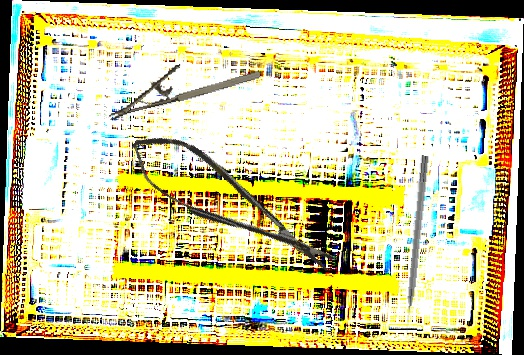Micro Scissor: (119, 117, 344, 294)
Needle Holder: (101, 46, 262, 120)
Pusher: (400, 154, 430, 334)
